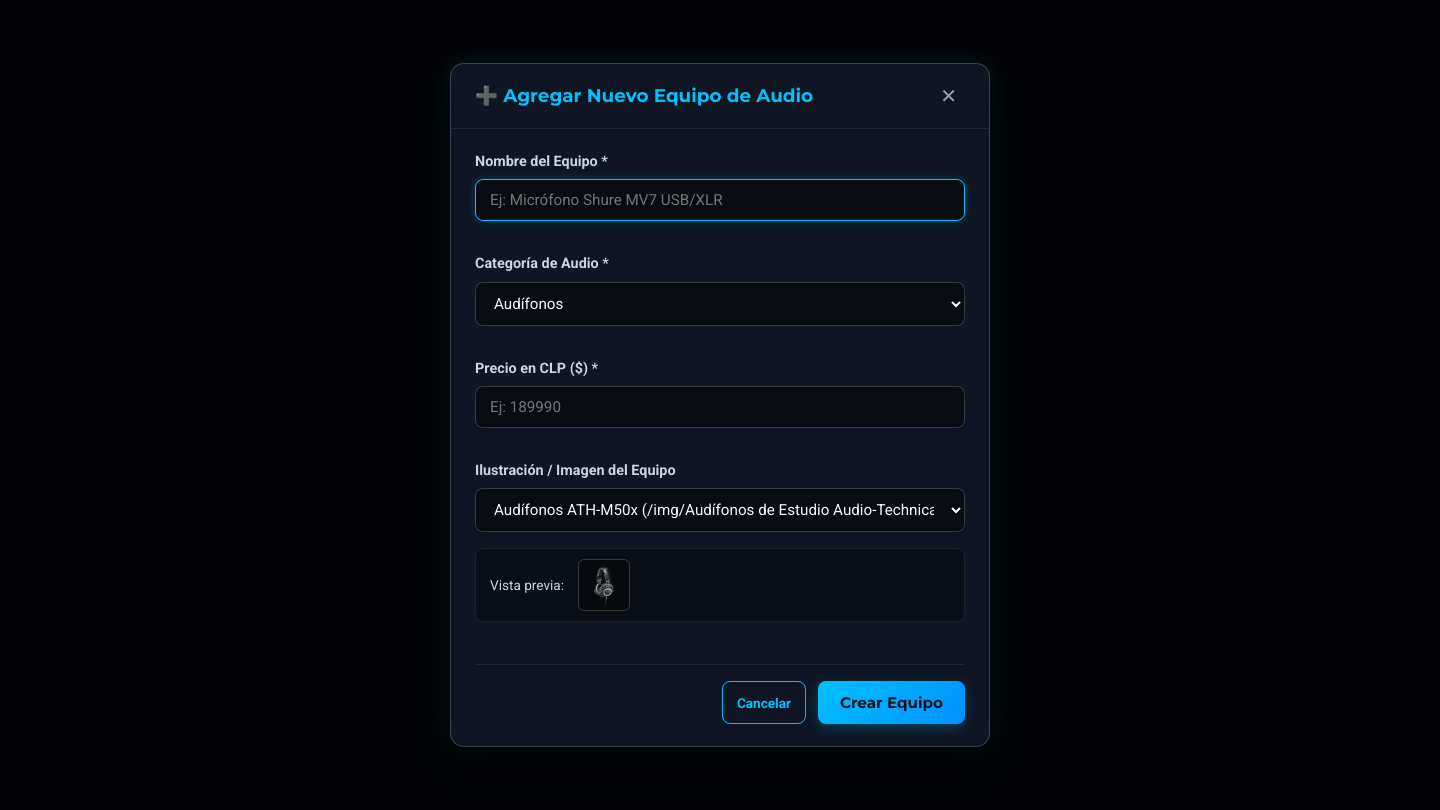
it: Componente ProductoFormModal (ProductoFormModal.jsx) - Validaciones, Interacción y Mocks/Spies › 9. Muestra mensaje de error de validación cuando el precio es menor o igual a $0 CLP
In the field labelled "Nombre del Equipo *": [720, 200] box [475,179,965,221], type "Micrófono Corbatero"
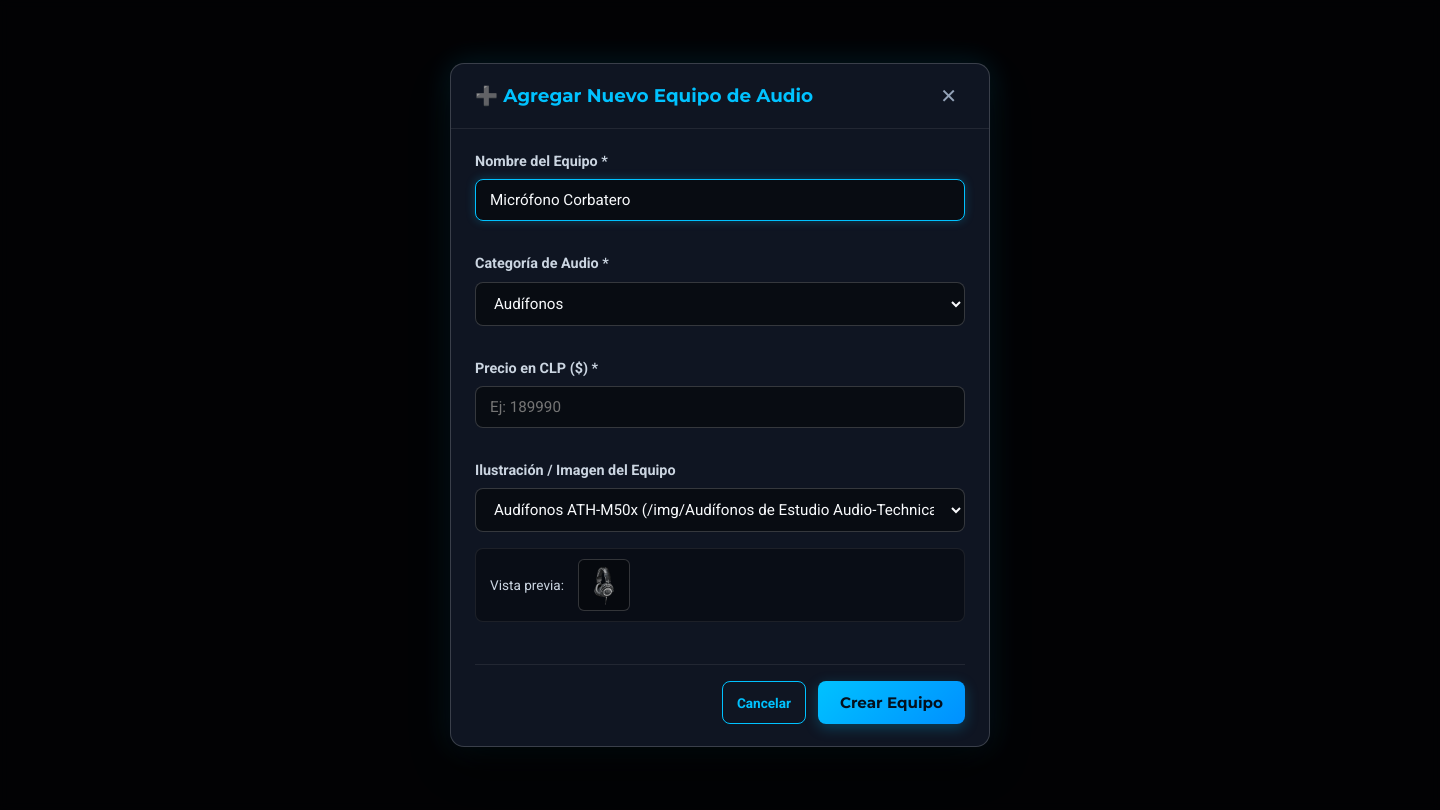
In the number field labelled "Precio en CLP ($) *": [720, 407] box [475,386,965,428], type "0"
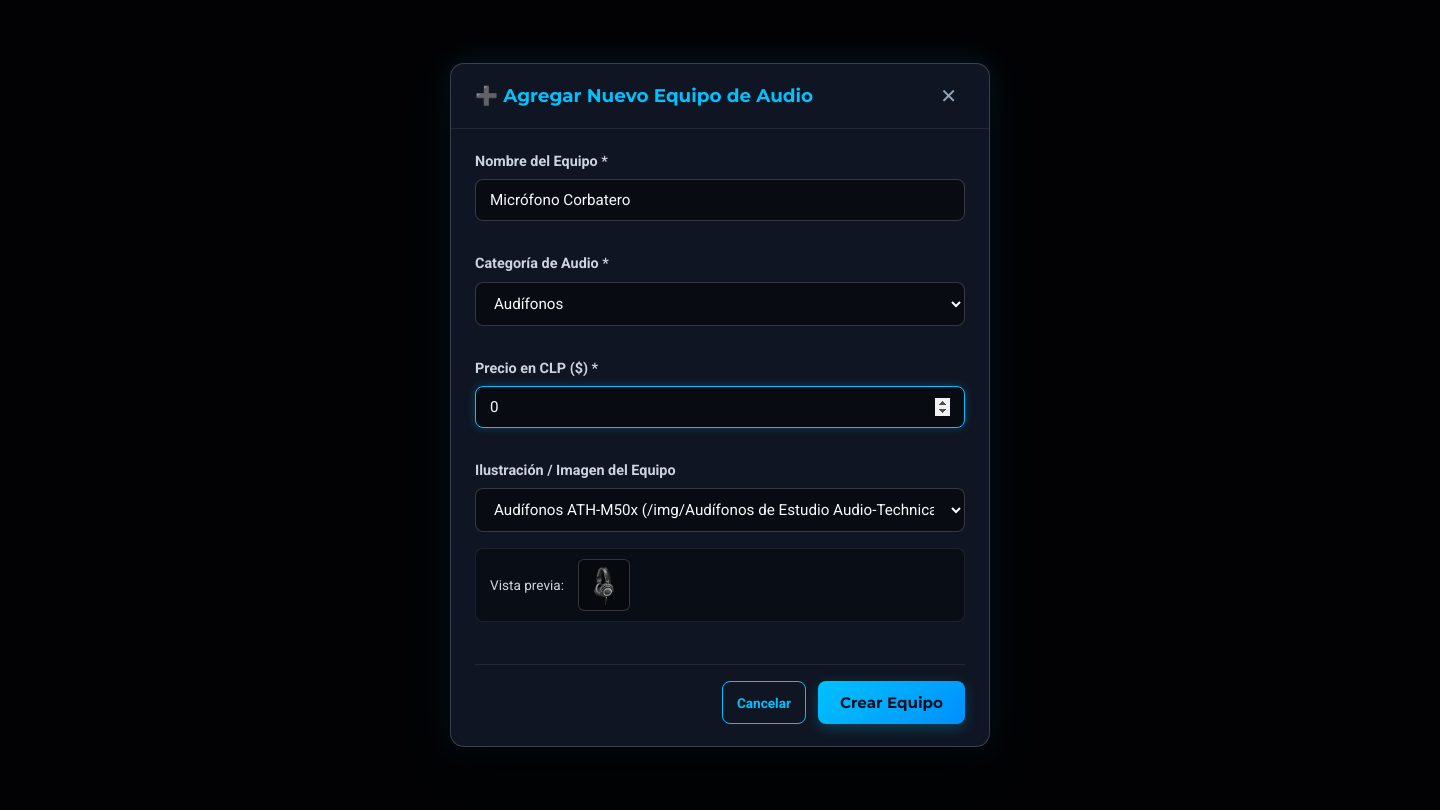
Click the button "Crear Equipo": [892, 703] box [818,681,965,724]
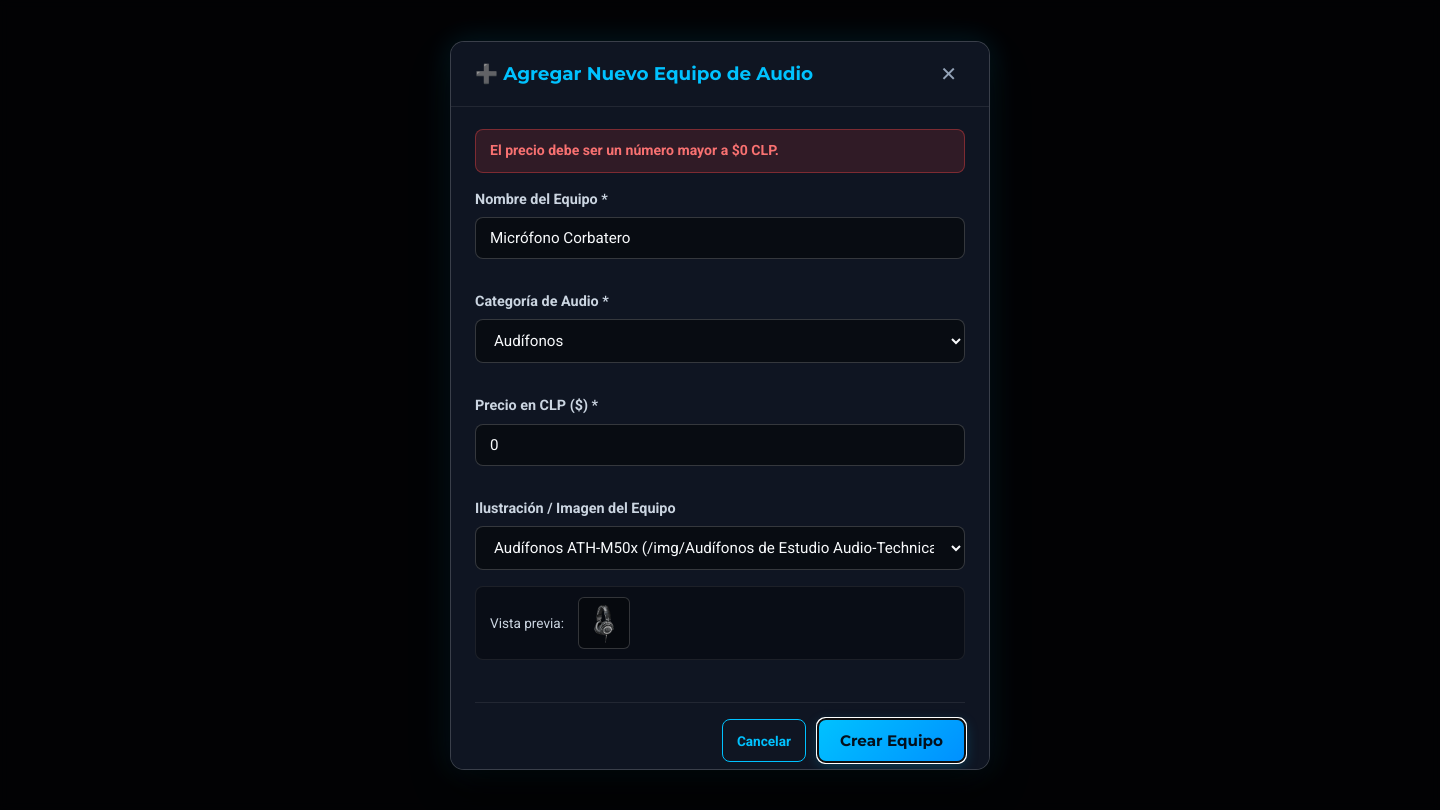
expect the text "El precio debe ser un número mayor a $0 CLP." is shown: met, box [475,129,965,173]
